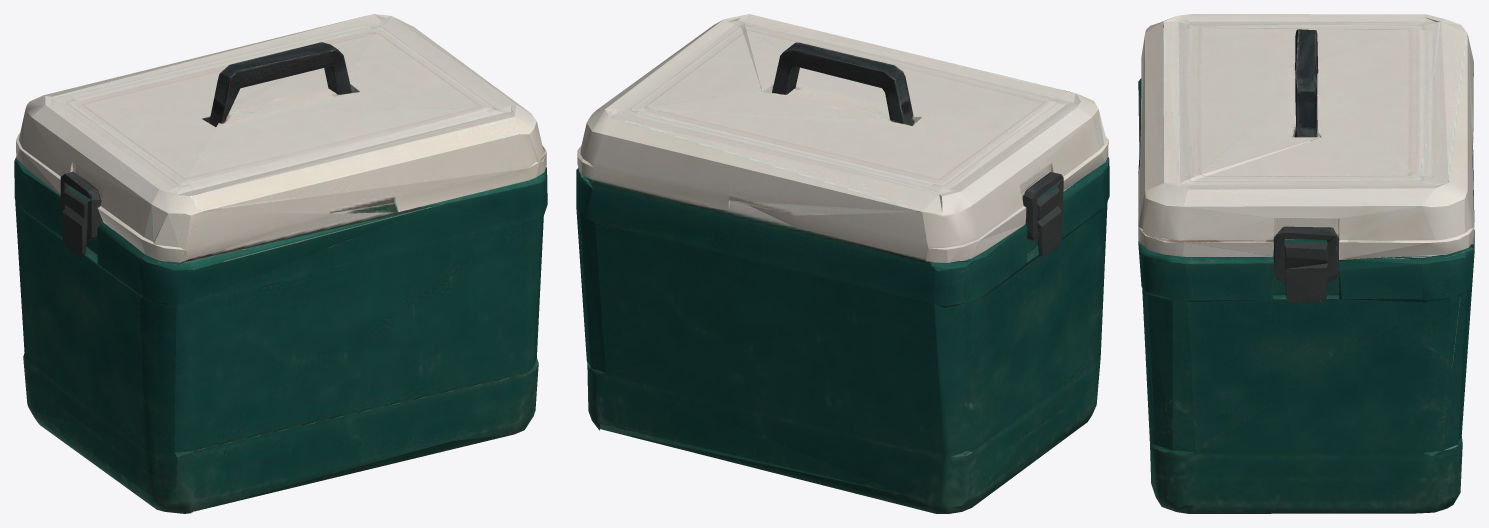
The model's file is camp_chilly.glb.
3 views of the same model, side by side, from view 1: azimuth 30°, elevation 25°; view 2: azimuth 150°, elevation 25°; view 3: azimuth 270°, elevation 25° (orthographic).
Parts seen in each view (by area): view 1: body, lid; view 2: lid, body; view 3: lid, body.
Boxes of the visible parts, x1,y1,x2,y2 form: body: (15,201,543,513); lid: (14,14,547,305); lid: (576,14,1109,305); body: (576,199,1108,513); lid: (1138,14,1474,302); body: (1142,284,1472,513).
Size of the model in its own units: 0.96 by 0.8 by 0.66.
Materials: 1 (1 with a texture image).
